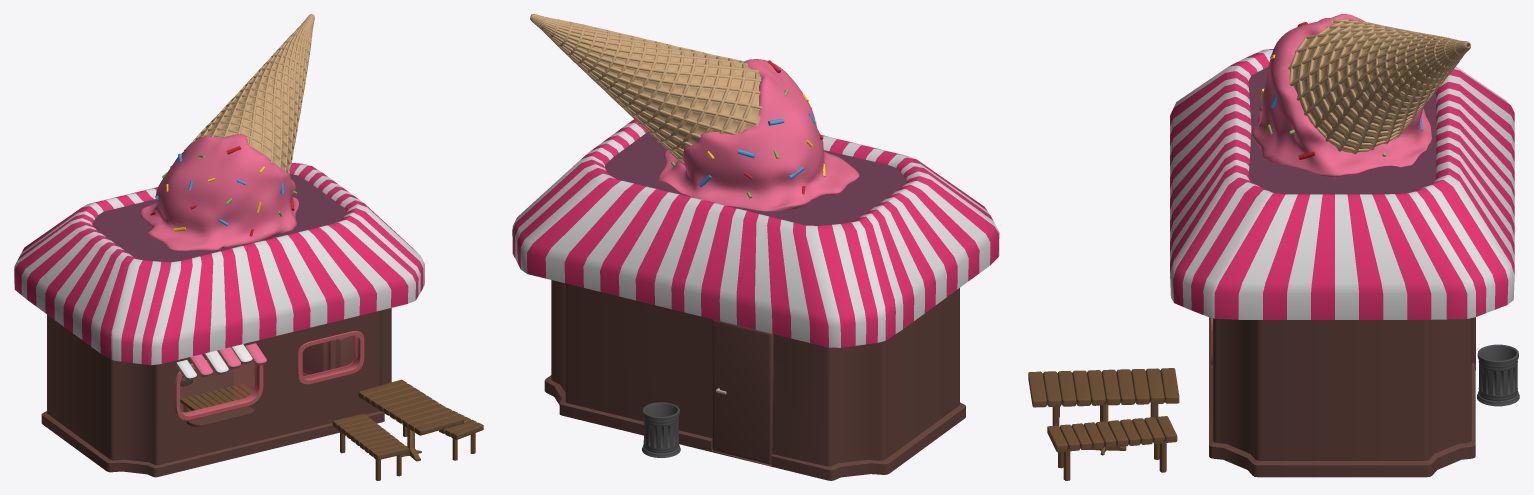
File: ice_cream_shop.glb
3 views of the same model, side by side, from view 1: azimuth 30°, elevation 25°; view 2: azimuth 150°, elevation 25°; view 3: azimuth 270°, elevation 25° (orthographic). The views are drawn at different scales.
Parts seen in each view (by area): view 1: Box021_base_0, Object005_Material #28_0, Object005_roof1_0, Sphere001_Retopo001_Retopo001_pink chok_0, Shape003_waffle_0, Object005_top_roof_0, Cone002_waffle_0, Box035_wood_0, Box021_Material #556_0, Box033_wood_0, Plane003_Glass_0, Box025_interior_0 (+5 smaller); view 2: Box021_base_0, Object005_Material #28_0, Object005_roof1_0, Sphere001_Retopo001_Retopo001_pink chok_0, Shape003_waffle_0, Object007_base_0, Cone002_waffle_0, Object005_top_roof_0, Cylinder006__0; view 3: Box021_base_0, Object005_Material #28_0, Object005_roof1_0, Shape003_waffle_0, Sphere001_Retopo001_Retopo001_pink chok_0, Cone002_waffle_0, Object005_top_roof_0, Box035_wood_0, Box034_wood_0, Cylinder006__0, Line008_wood_0.
Boxes of the visible parts, bbox=[...] form: Box021_base_0: bbox=[41, 308, 391, 477]; Object005_Material #28_0: bbox=[14, 163, 423, 365]; Object005_roof1_0: bbox=[14, 163, 424, 365]; Sphere001_Retopo001_Retopo001_pink chok_0: bbox=[140, 134, 298, 250]; Shape003_waffle_0: bbox=[184, 14, 314, 174]; Object005_top_roof_0: bbox=[92, 174, 346, 261]; Cone002_waffle_0: bbox=[195, 14, 314, 171]; Box035_wood_0: bbox=[358, 379, 463, 435]; Box021_Material #556_0: bbox=[175, 331, 364, 420]; Box033_wood_0: bbox=[332, 413, 408, 460]; Plane003_Glass_0: bbox=[303, 336, 357, 378]; Box025_interior_0: bbox=[302, 335, 354, 375]; Box021_base_0: bbox=[544, 280, 965, 480]; Object005_Material #28_0: bbox=[512, 119, 998, 347]; Object005_roof1_0: bbox=[512, 123, 999, 347]; Sphere001_Retopo001_Retopo001_pink chok_0: bbox=[659, 59, 859, 211]; Shape003_waffle_0: bbox=[531, 14, 762, 164]; Object007_base_0: bbox=[712, 319, 773, 464]; Cone002_waffle_0: bbox=[530, 14, 761, 161]; Object005_top_roof_0: bbox=[605, 132, 906, 225]; Cylinder006__0: bbox=[642, 402, 680, 457]; Box021_base_0: bbox=[1209, 317, 1475, 477]; Object005_Material #28_0: bbox=[1170, 49, 1514, 319]; Object005_roof1_0: bbox=[1170, 49, 1514, 319]; Shape003_waffle_0: bbox=[1287, 18, 1470, 154]; Sphere001_Retopo001_Retopo001_pink chok_0: bbox=[1251, 14, 1431, 177]; Cone002_waffle_0: bbox=[1289, 22, 1470, 153]; Object005_top_roof_0: bbox=[1248, 67, 1436, 194]; Box035_wood_0: bbox=[1028, 368, 1179, 407]; Box034_wood_0: bbox=[1047, 416, 1177, 452]; Cylinder006__0: bbox=[1477, 344, 1519, 406]; Line008_wood_0: bbox=[1058, 441, 1166, 480].
Bounding box in the file's own units: 1819 × 1805 × 1862.
